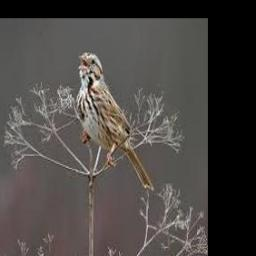Sparrow: (75, 52, 154, 191)
